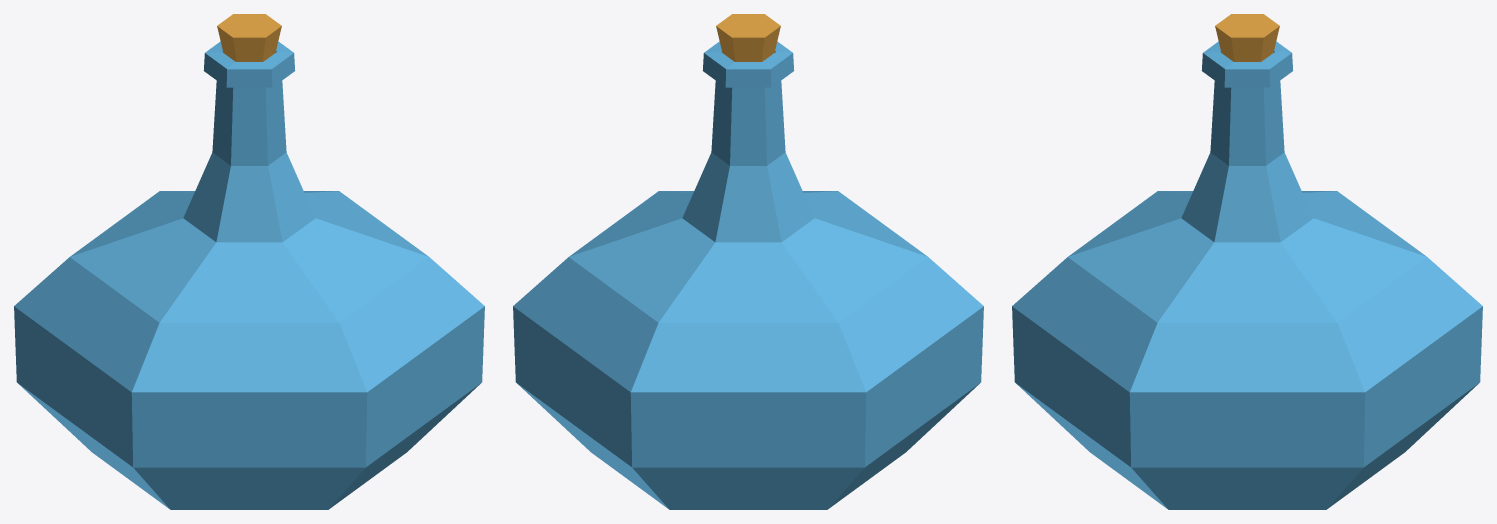
The model's file is SM_Bottle_Alchemy_A.fbx.
The picture shows the model from 3 angles, left to right: view 1: azimuth 30°, elevation 25°; view 2: azimuth 150°, elevation 25°; view 3: azimuth 270°, elevation 25°; orthographic projection.
Visible parts, largest first — view 1: bottle-alchemy-a; view 2: bottle-alchemy-a; view 3: bottle-alchemy-a.
Boxes of the visible parts, x1,y1,x2,y2 form: bottle-alchemy-a: [14, 14, 484, 509]; bottle-alchemy-a: [513, 14, 983, 509]; bottle-alchemy-a: [1012, 14, 1482, 509].
Bounding box in the file's own units: 0.1922 × 0.2217 × 0.2219.
